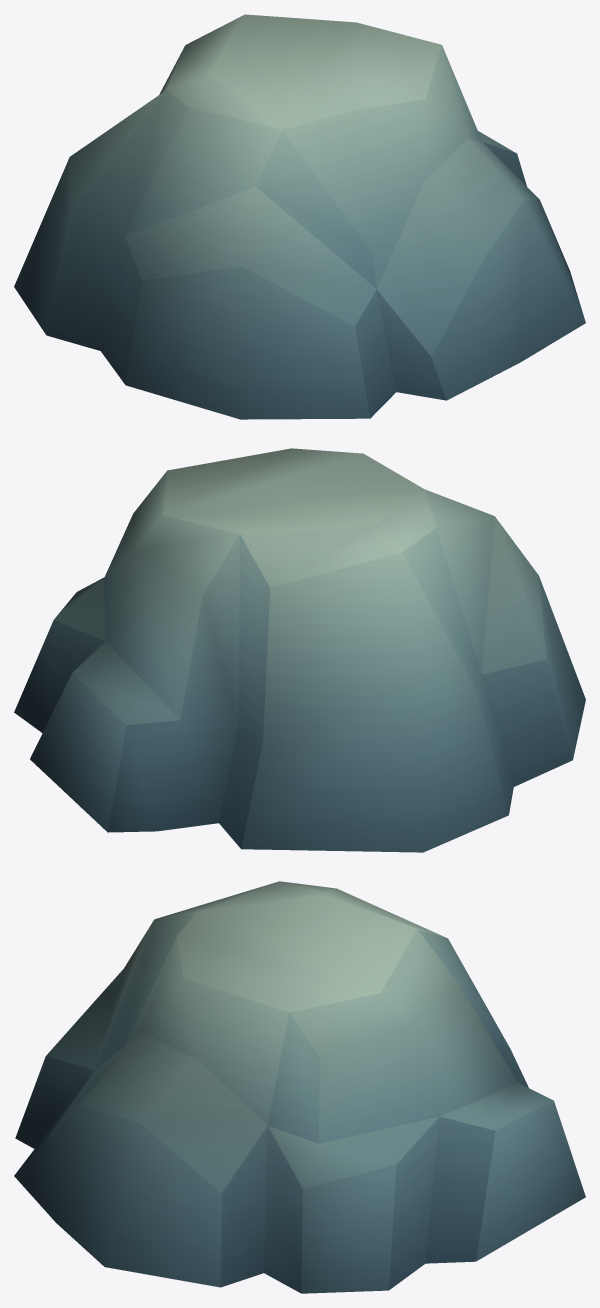
The model's file is Rock 01.FBX.
3 views of the same model, one above another, from view 1: azimuth 30°, elevation 25°; view 2: azimuth 150°, elevation 25°; view 3: azimuth 270°, elevation 25° (orthographic). The views are drawn at different scales.
Parts seen in each view (by area): view 1: Rock 01; view 2: Rock 01; view 3: Rock 01.
Part boxes in pixels (bbox=[...]): Rock 01: bbox=[14, 14, 585, 419]; Rock 01: bbox=[14, 448, 585, 852]; Rock 01: bbox=[14, 881, 585, 1293].
Size of the model in its own units: 228 by 112 by 237.
1 material, 1 textured.
